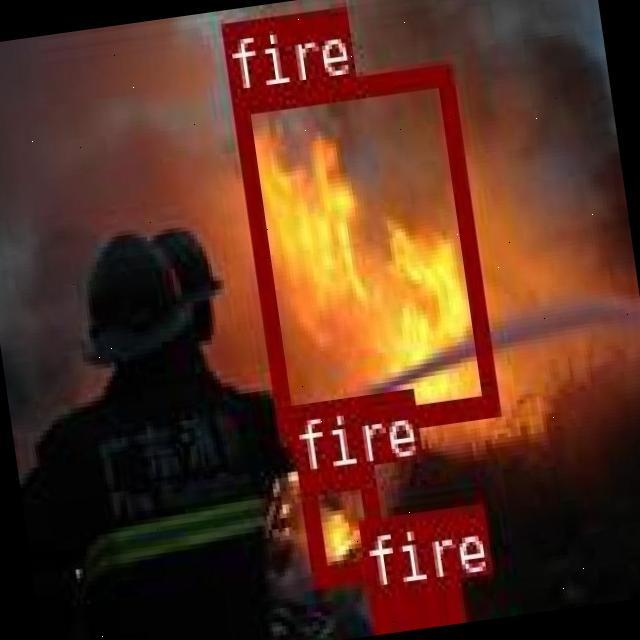fire: (230, 65, 496, 443), (298, 464, 384, 582), (365, 577, 459, 627)
